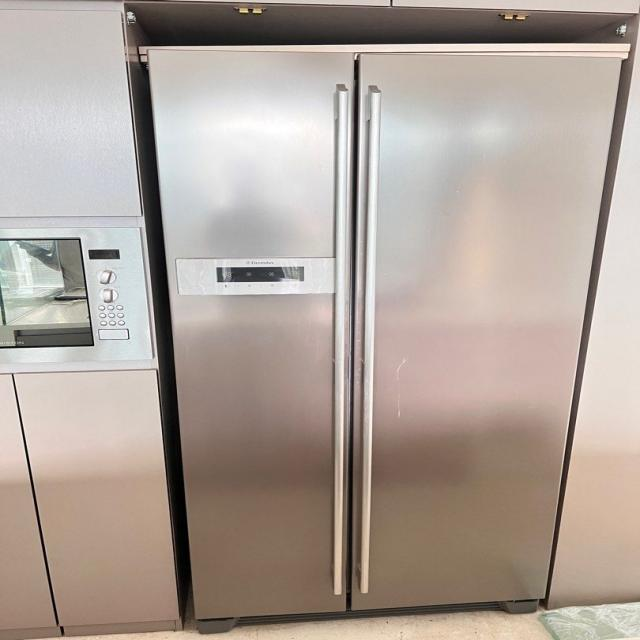refrigerator: (146, 44, 622, 629)
